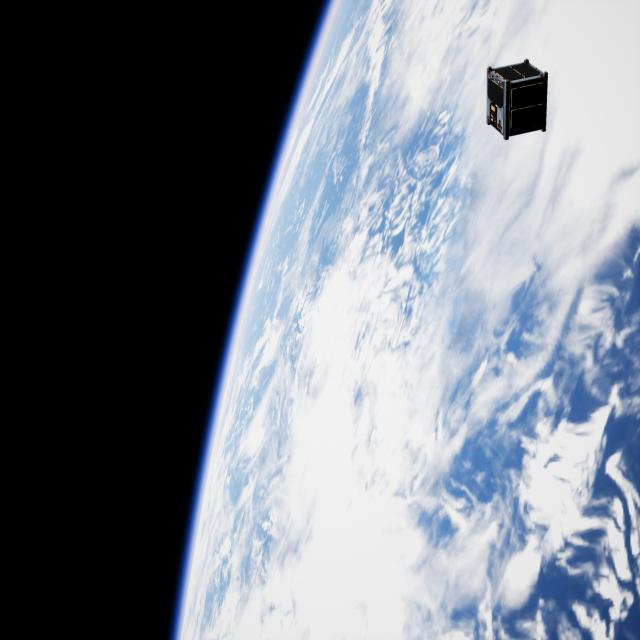medium_debris: (481, 54, 556, 140)
